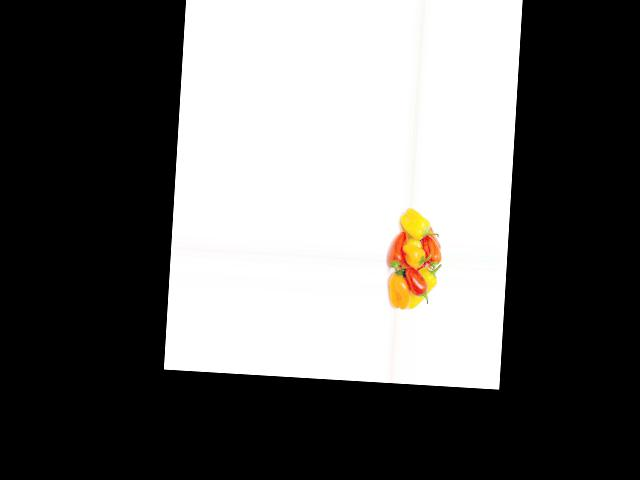bell_pepper: (407, 266, 440, 310)
